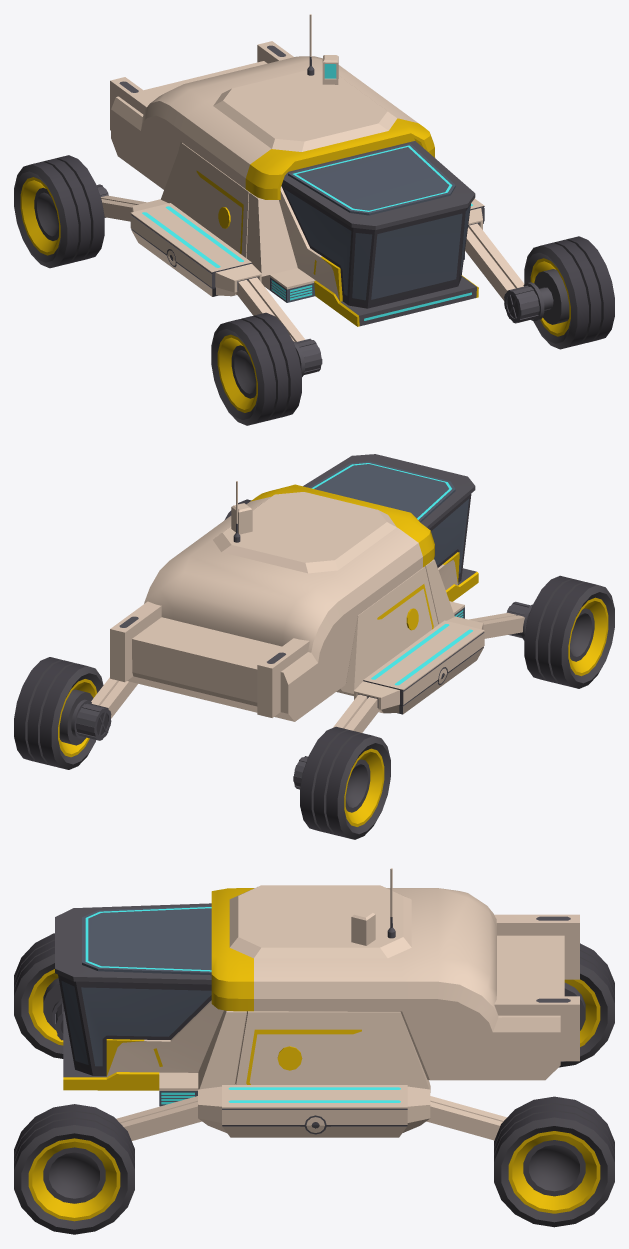
Rendered from SM_Vehicles_02.fbx.
The picture shows the model from 3 angles, top to bottom: view 1: azimuth 30°, elevation 25°; view 2: azimuth 150°, elevation 25°; view 3: azimuth 270°, elevation 25°; orthographic projection. The views are drawn at different scales.
Visible parts, largest first — view 1: SM_Vehicles_02, SM_Vehicle_02_FR, SM_Vehicle_02_RR, SM_Vehicle_02_FL; view 2: SM_Vehicles_02, SM_Vehicle_02_RR, SM_Vehicle_02_FR, SM_Vehicle_02_RL; view 3: SM_Vehicles_02, SM_Vehicle_02_RL, SM_Vehicle_02_FL, SM_Vehicle_02_FR, SM_Vehicle_02_RR.
Boxes of the visible parts, left/top/right/bottom form: SM_Vehicles_02: left=96, top=14, right=553, bottom=376; SM_Vehicle_02_FR: left=211, top=312, right=301, bottom=425; SM_Vehicle_02_RR: left=14, top=155, right=104, bottom=268; SM_Vehicle_02_FL: left=524, top=236, right=614, bottom=349; SM_Vehicles_02: left=71, top=454, right=532, bottom=789; SM_Vehicle_02_RR: left=300, top=726, right=390, bottom=839; SM_Vehicle_02_FR: left=524, top=575, right=614, bottom=688; SM_Vehicle_02_RL: left=14, top=657, right=103, bottom=769; SM_Vehicles_02: left=52, top=868, right=579, bottom=1140; SM_Vehicle_02_RL: left=494, top=1096, right=614, bottom=1227; SM_Vehicle_02_FL: left=14, top=1104, right=134, bottom=1234; SM_Vehicle_02_FR: left=14, top=933, right=63, bottom=1058; SM_Vehicle_02_RR: left=559, top=943, right=614, bottom=1067.
Bounding box in the file's own units: 5.51 × 3.75 × 7.06.
